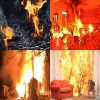fire: (57, 50, 94, 96), (17, 50, 44, 99), (21, 1, 50, 40), (50, 10, 86, 38), (0, 25, 14, 47), (63, 36, 68, 49), (88, 24, 94, 33), (79, 39, 81, 43), (96, 29, 98, 32)
